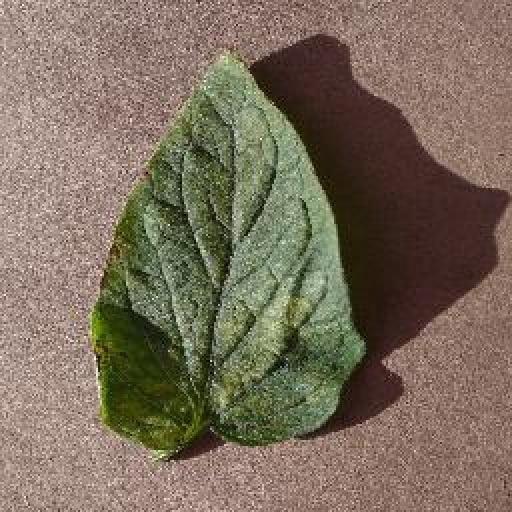Spider Mites: (92, 48, 366, 449)
